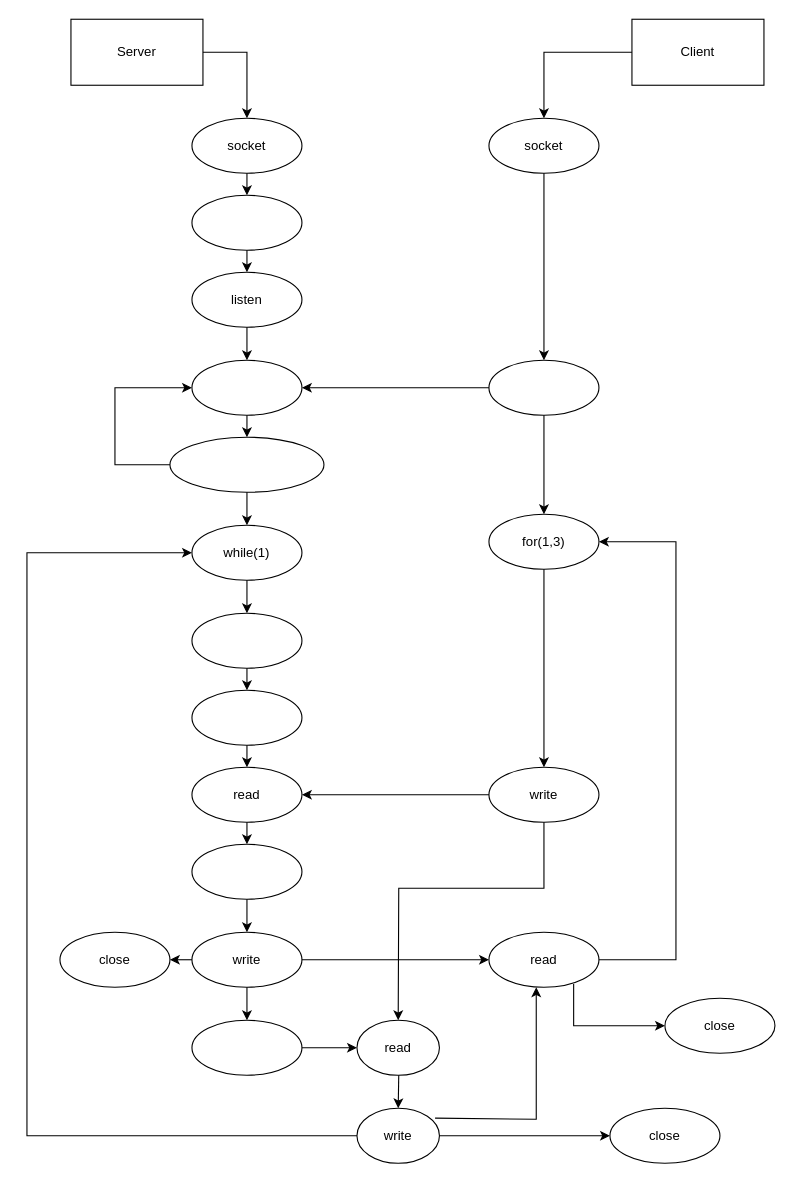
This 794x1183 diagram has some shape labels left out. The centre of each missing label's shape, as x and y in pixels:
"answer()" belongs at point (246, 717).
"bind" belongs at point (246, 222).
"connect" belongs at point (543, 387).
"getMaxFr()" belongs at point (246, 871).
"pthread_create(treat)" belongs at point (246, 464).
"resetFr()" belongs at point (246, 640).
"try_again()" belongs at point (246, 1047).
"while(1) accept" belongs at point (246, 387).
